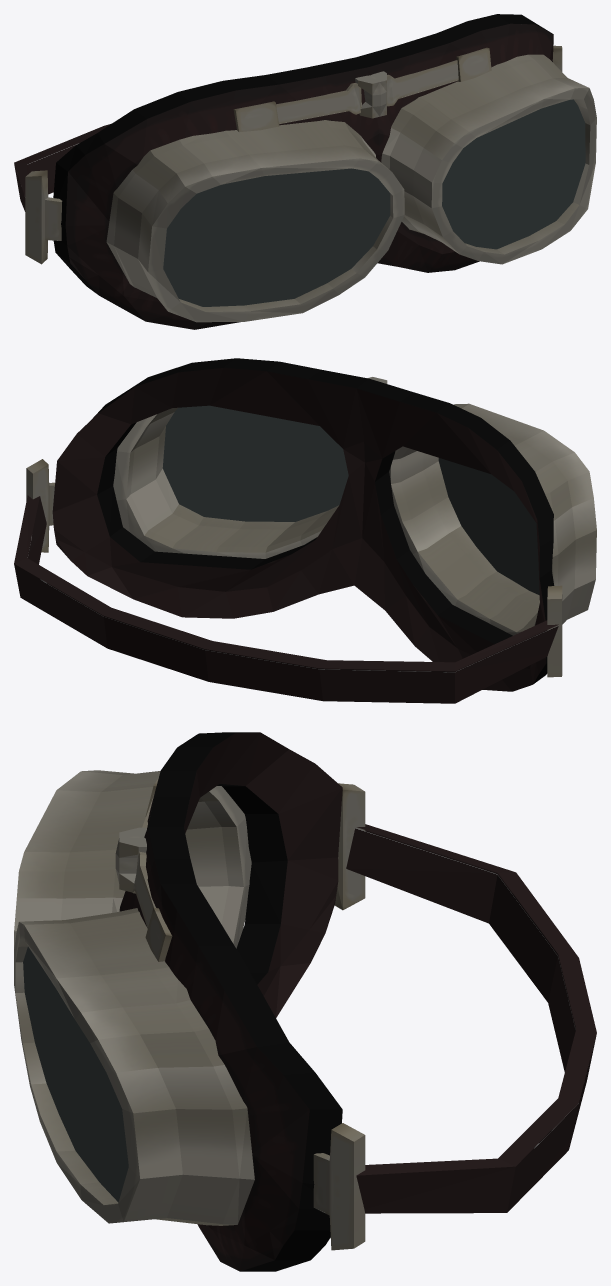
File: Goggles.obj
The picture shows the model from 3 angles, top to bottom: view 1: azimuth 30°, elevation 25°; view 2: azimuth 150°, elevation 25°; view 3: azimuth 270°, elevation 25°; orthographic projection. The views are drawn at different scales.
Parts seen in each view (by area): view 1: Cube_Cube.001; view 2: Cube_Cube.001; view 3: Cube_Cube.001.
Boxes of the visible parts, left/top/right/bottom form: Cube_Cube.001: left=14, top=14, right=596, bottom=329; Cube_Cube.001: left=14, top=358, right=596, bottom=703; Cube_Cube.001: left=14, top=732, right=596, bottom=1271.
Size of the model in its own units: 5.09 by 2.23 by 3.51.
1 material, 1 textured.
